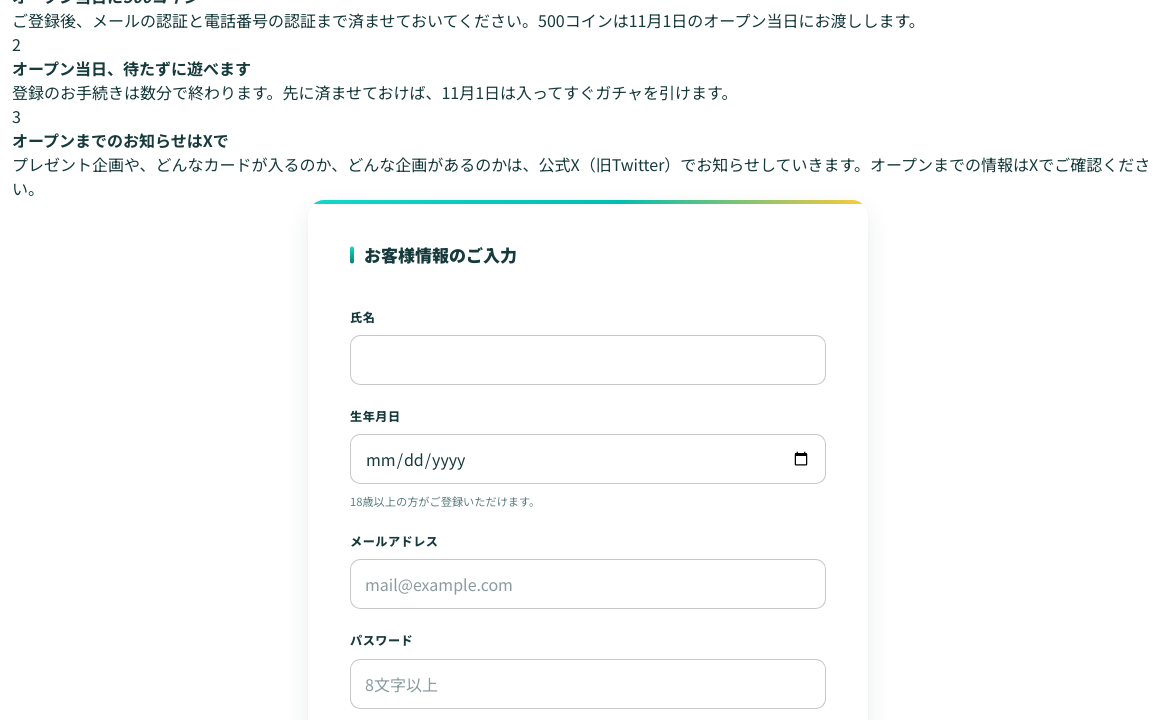
it: pre-registration application › blocks duplicate submissions and recovers from a network failure
(page scrolled)
Type "登録テスト" into the field labelled "氏名" at point(588, 360), box top-left (350, 335), bottom-right (826, 385)
Type "2000-01-01" into the date field labelled "生年月日" at point(588, 459), box top-left (350, 434), bottom-right (826, 484)
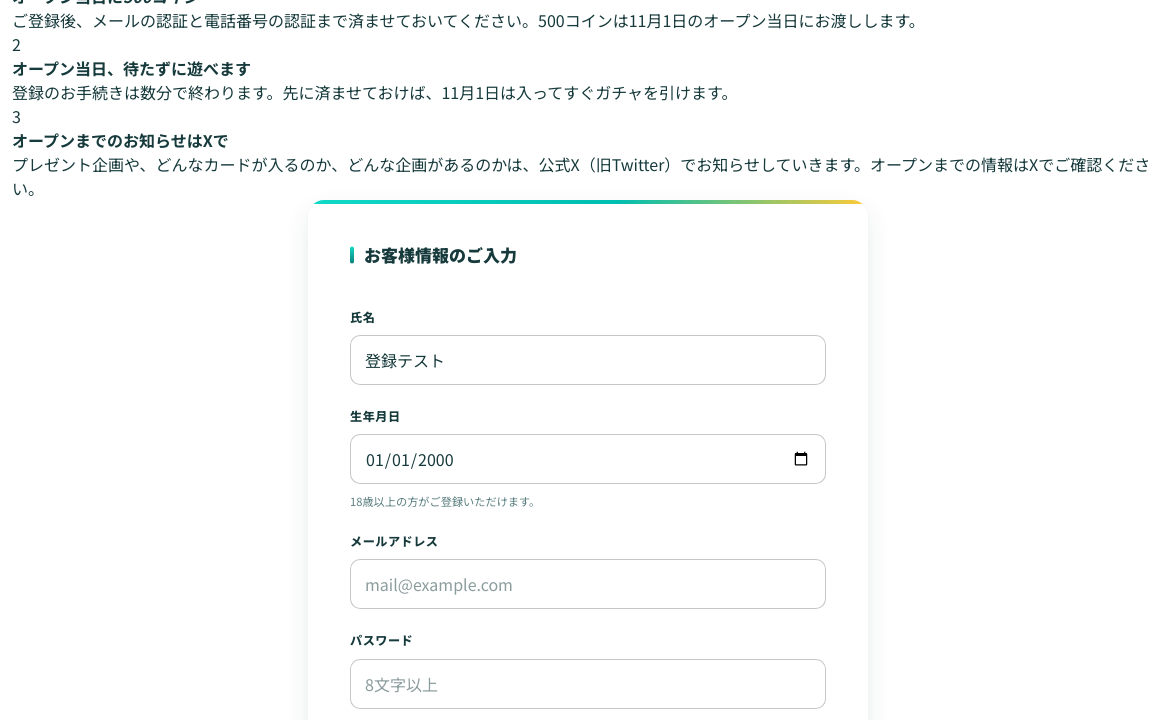
Type "fixture@example.test" into the field labelled "メールアドレス" at point(588, 584), box top-left (350, 560), bottom-right (826, 610)
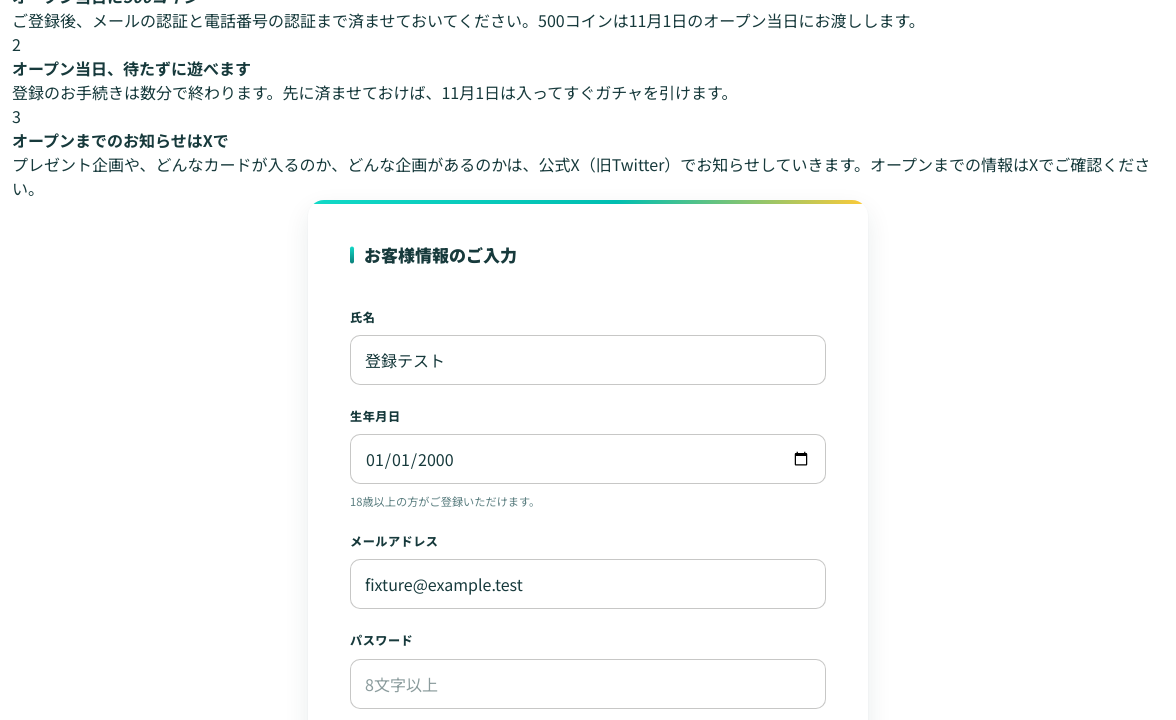
Type "fixture-password" into the password field labelled "パスワード" at point(588, 684), box top-left (350, 659), bottom-right (826, 709)
(page scrolled)
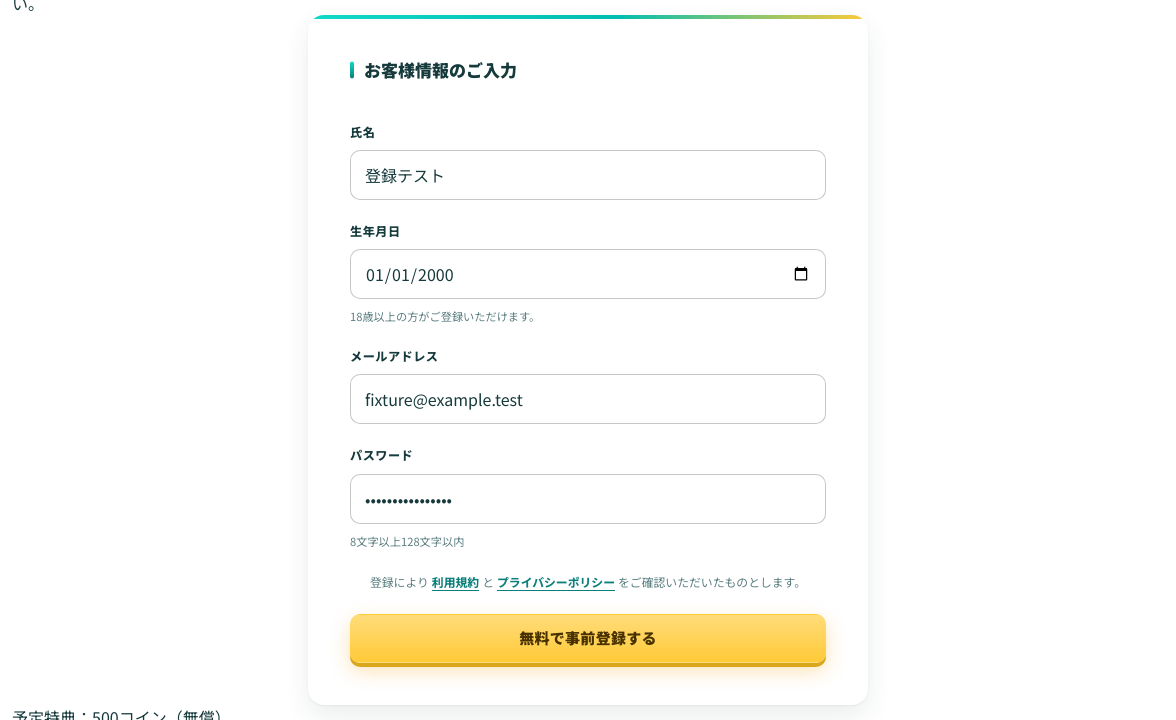
Submit the form named "無料で事前登録する", box top-left (308, 16), bottom-right (868, 705)
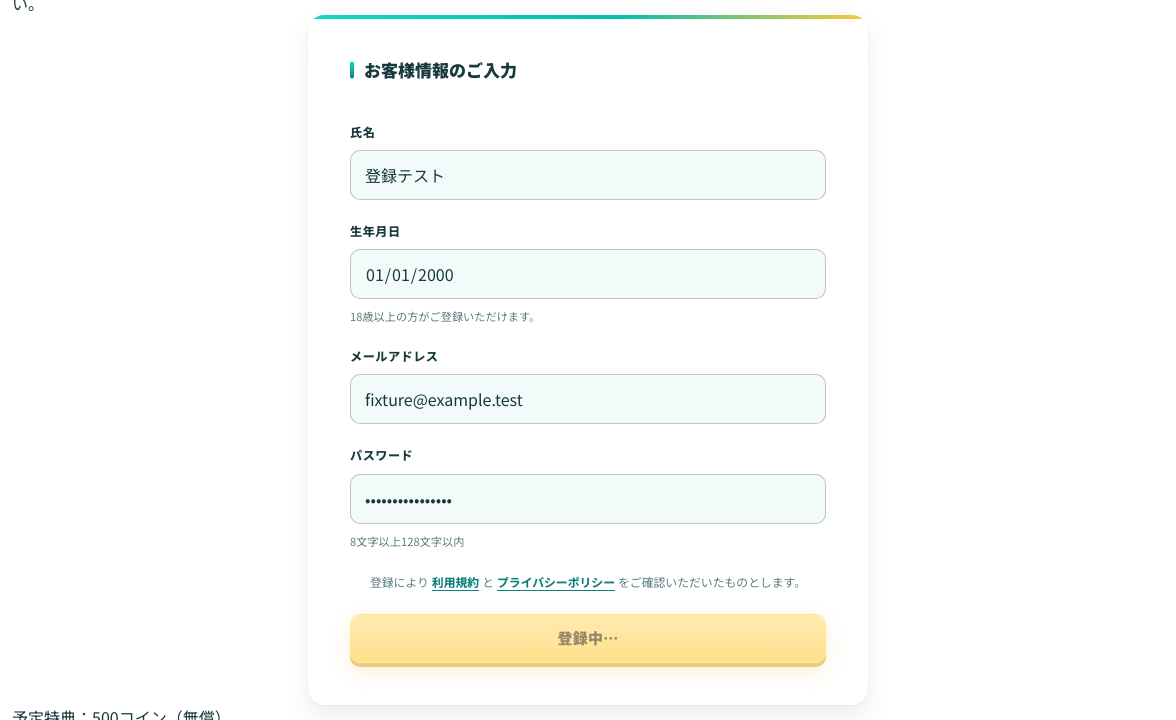
Submit the form named "無料で事前登録する", box top-left (308, 16), bottom-right (868, 705)
(page scrolled)
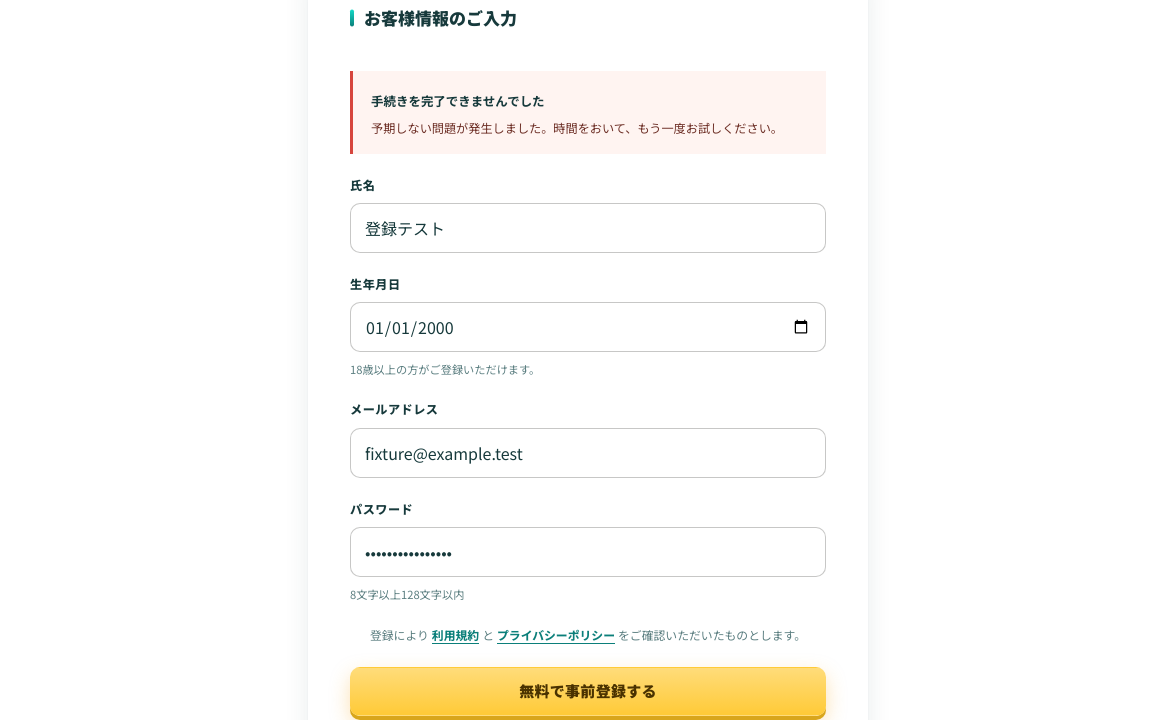
Expected: the message "手続きを完了できませんでした 予期しない問題が発生しました。時間をおいて、もう一度お試しください。" is shown, top-left (350, 71), bottom-right (826, 154)
Submit the form named "無料で事前登録する"
(page scrolled)
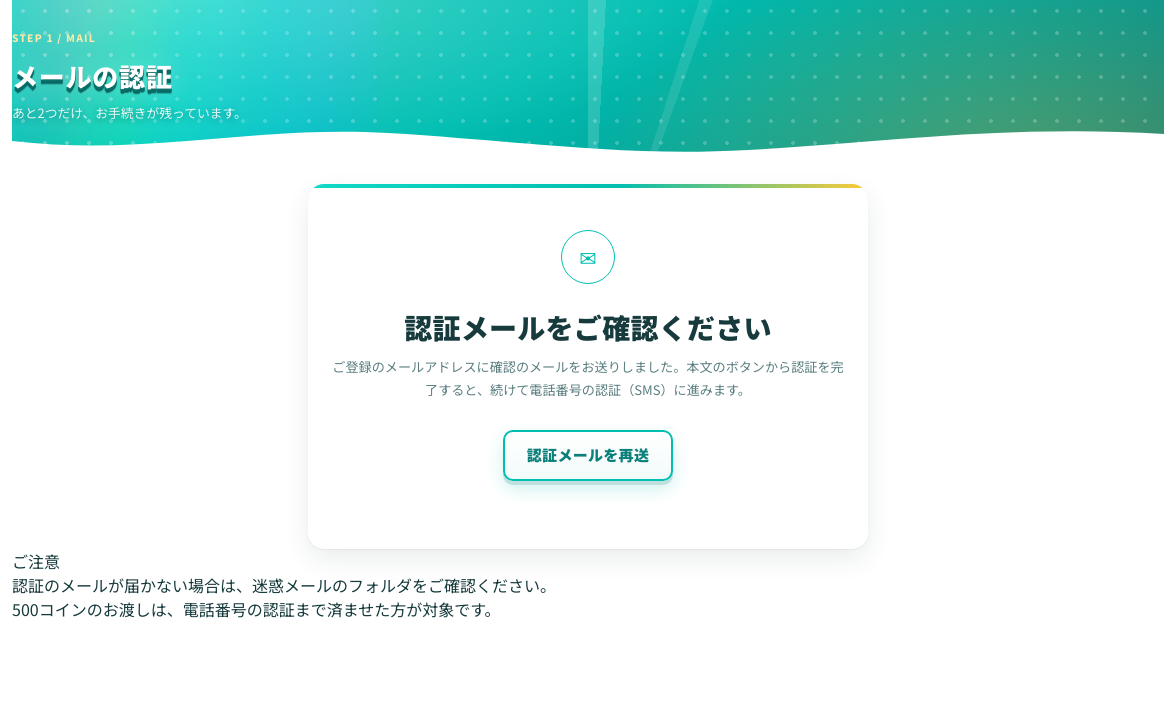
Expected: the heading "メールの認証" is shown, top-left (12, 57), bottom-right (173, 94)
